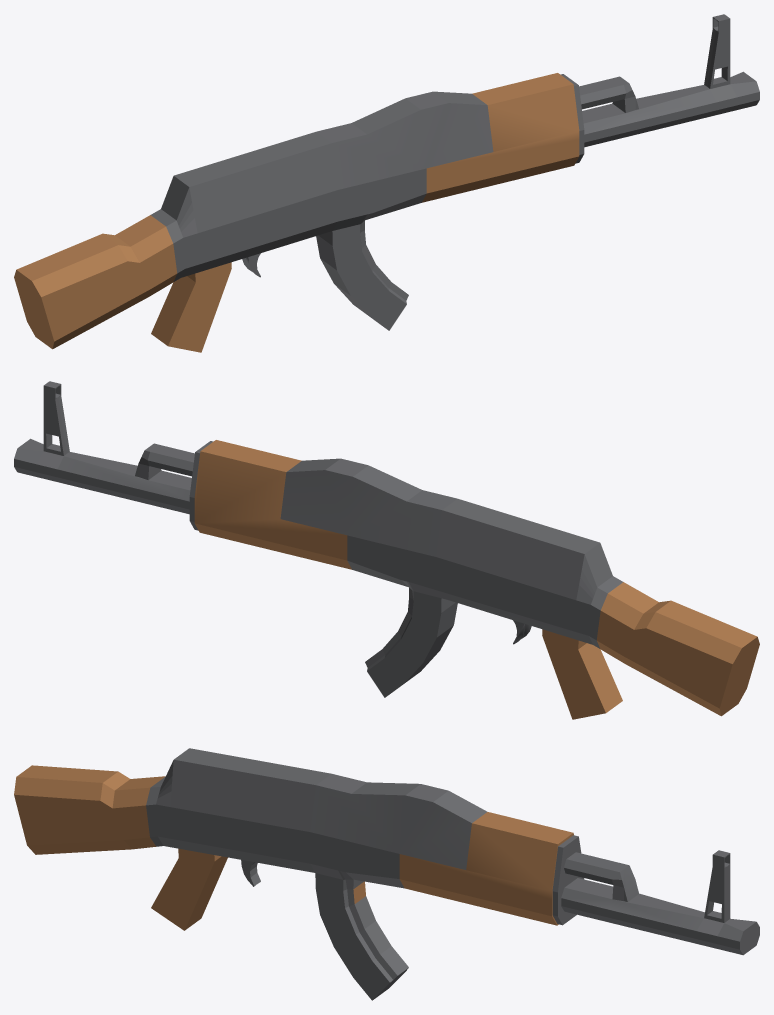
3 views of the same model, one above another, from view 1: azimuth 30°, elevation 25°; view 2: azimuth 150°, elevation 25°; view 3: azimuth 330°, elevation 25° (orthographic).
Visible parts, largest first — view 1: AK; view 2: AK; view 3: AK.
Boxes of the visible parts, left/top/right/bottom form: AK: left=14, top=14, right=759, bottom=352; AK: left=14, top=381, right=759, bottom=719; AK: left=14, top=748, right=759, bottom=1000.
Size of the model in its own units: 1063 by 313 by 69.18.
